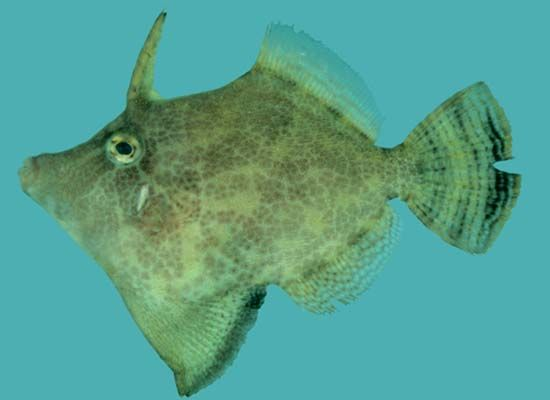fish: (17, 10, 522, 398)
